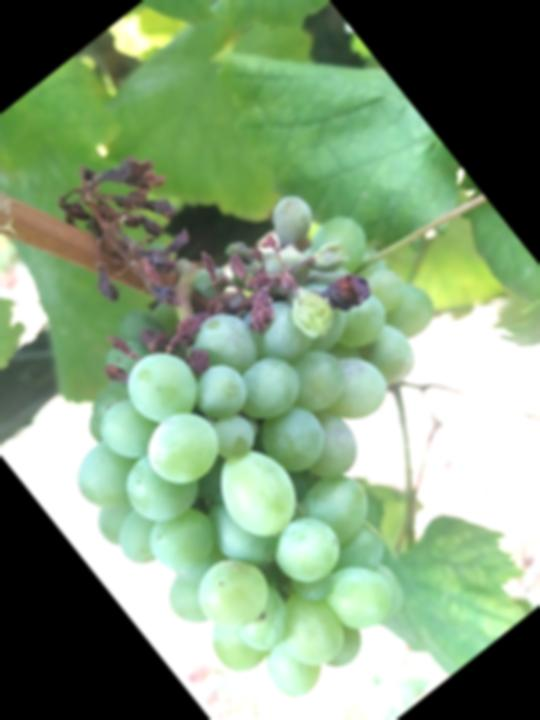grape: (0, 42, 540, 720)
